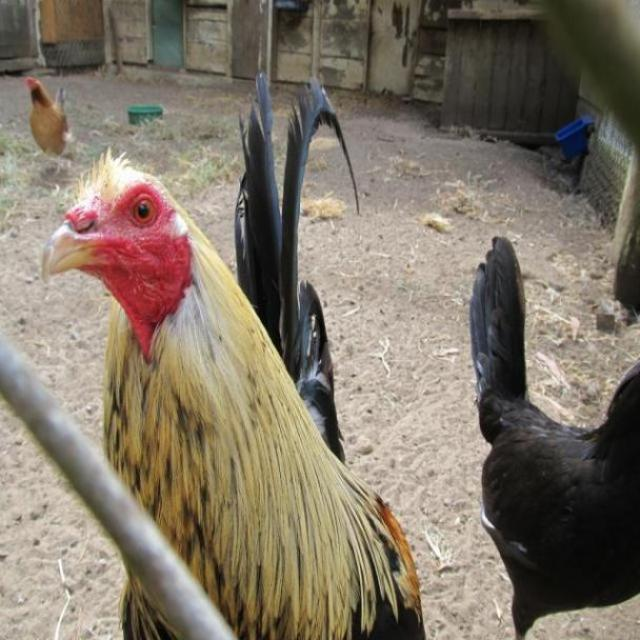Chicken: (40, 66, 428, 640), (468, 237, 640, 640)
